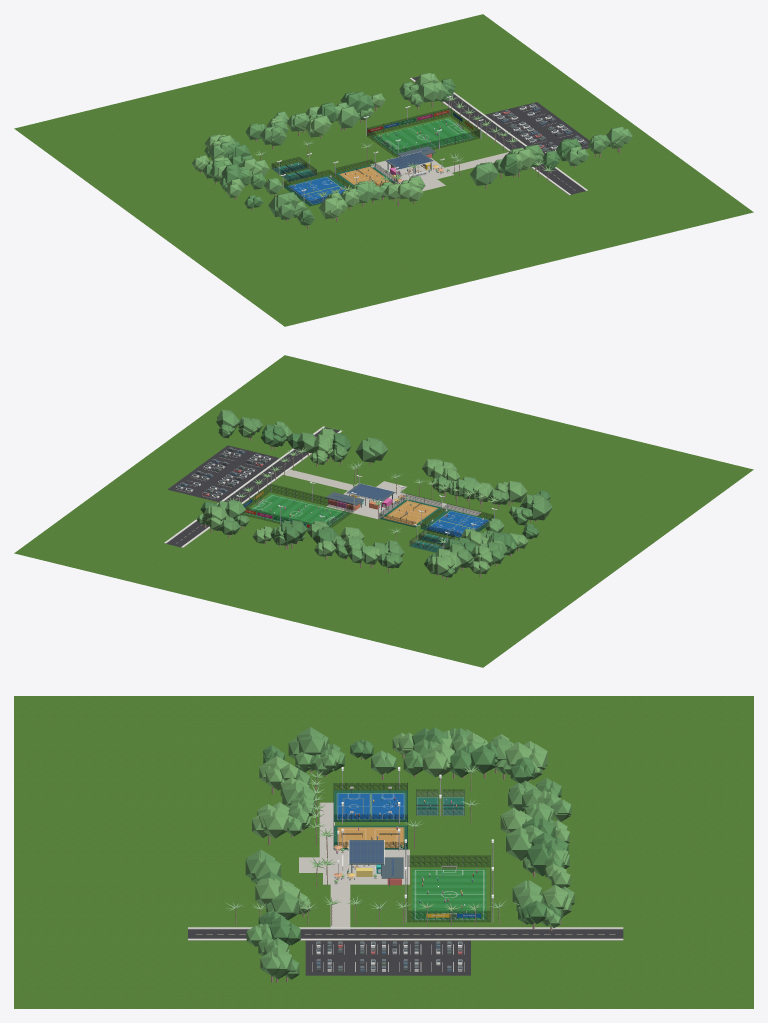
Rendered from ecos-sports-park.glb.
3 renders of one model, top to bottom at view 1: azimuth 30°, elevation 25°; view 2: azimuth 150°, elevation 25°; view 3: azimuth 270°, elevation 25°, orthographic. The views are drawn at different scales.
Bounding box in the file's own units: 340 × 18.84 × 340.
1652 materials, 47 textured.
